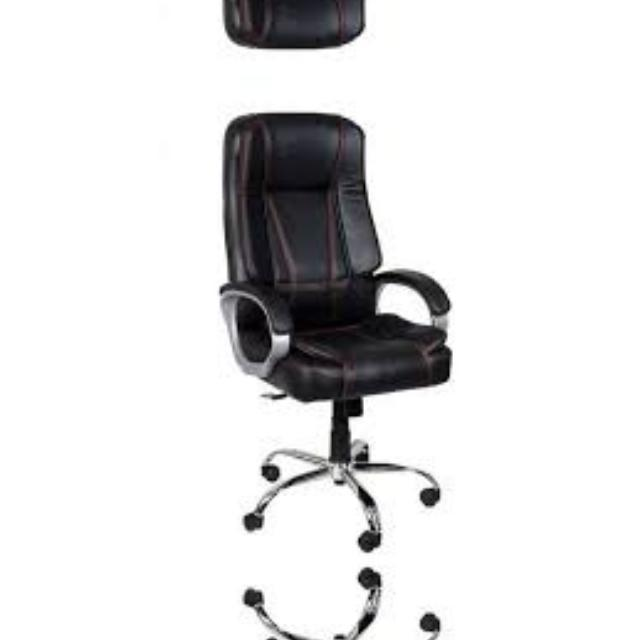obstacle: (190, 95, 464, 559), (190, 560, 464, 640), (190, 0, 464, 65)
